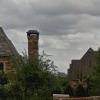Chimney: (23, 23, 51, 65)
